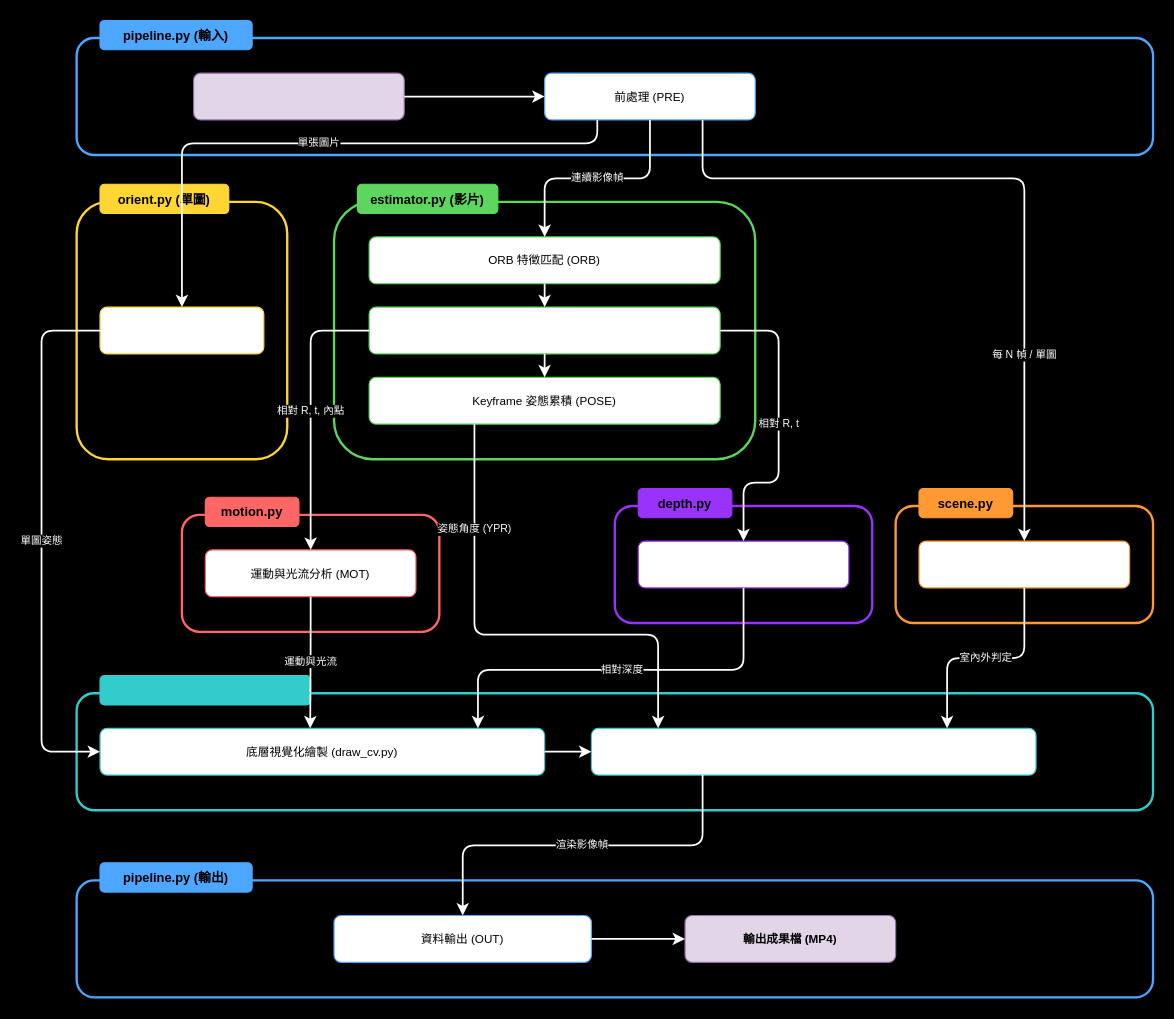
This 1174x1019 diagram has some shape labels left out. The shapes that lost their labels are listed below. From the top down, each one's centre as x and y in pixels, then its label:
At point (298, 96): "輸入影片 / Webcam / 單圖".
At point (181, 330): "單圖姿態估算".
At point (544, 330): "本質矩陣與姿態求解 (EM)".
At point (743, 564): "相對深度估算 (DEP)".
At point (1024, 564): "室內外分類判定 (SCN)".
At point (205, 690): "draw_cv.py & visualize.py".
At point (813, 751): "XYZ 指示器與 HUD 整合 (visualize.py)".
